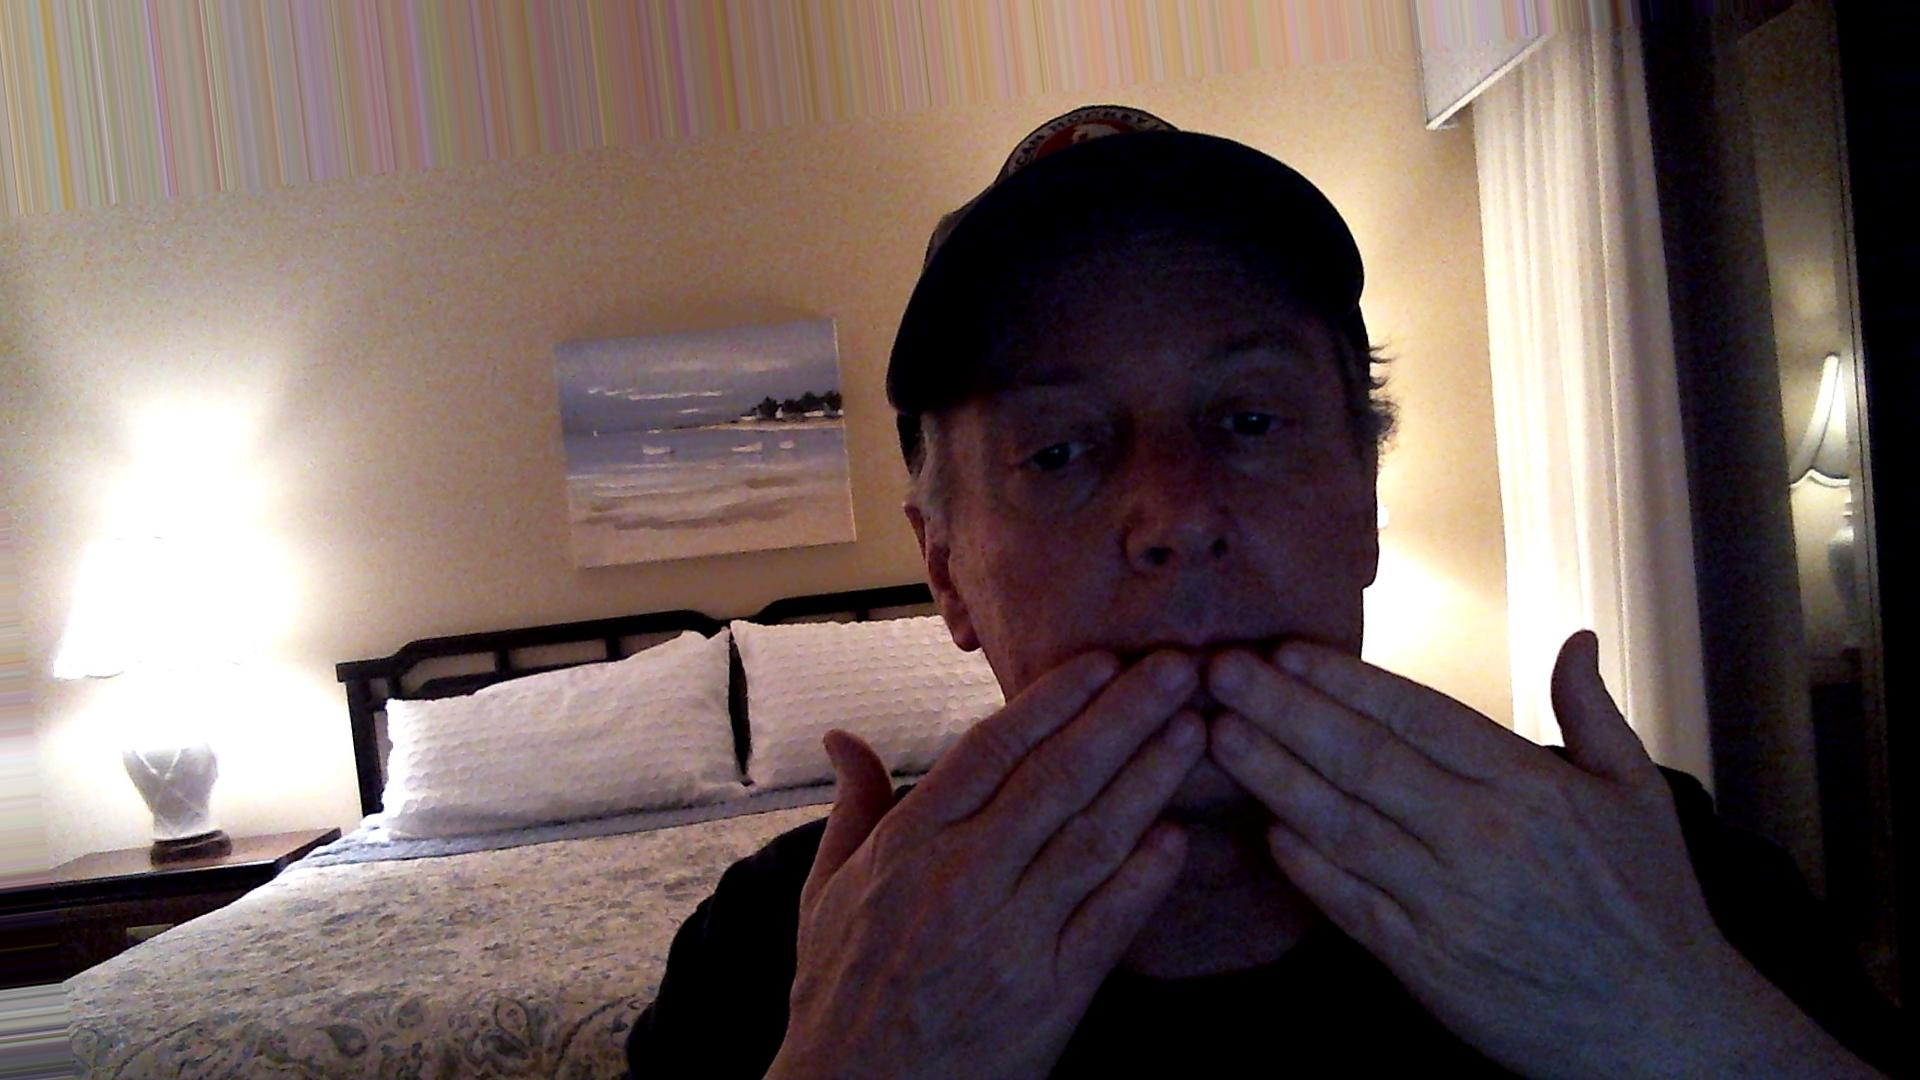Thank You: (791, 604, 1709, 1011)
